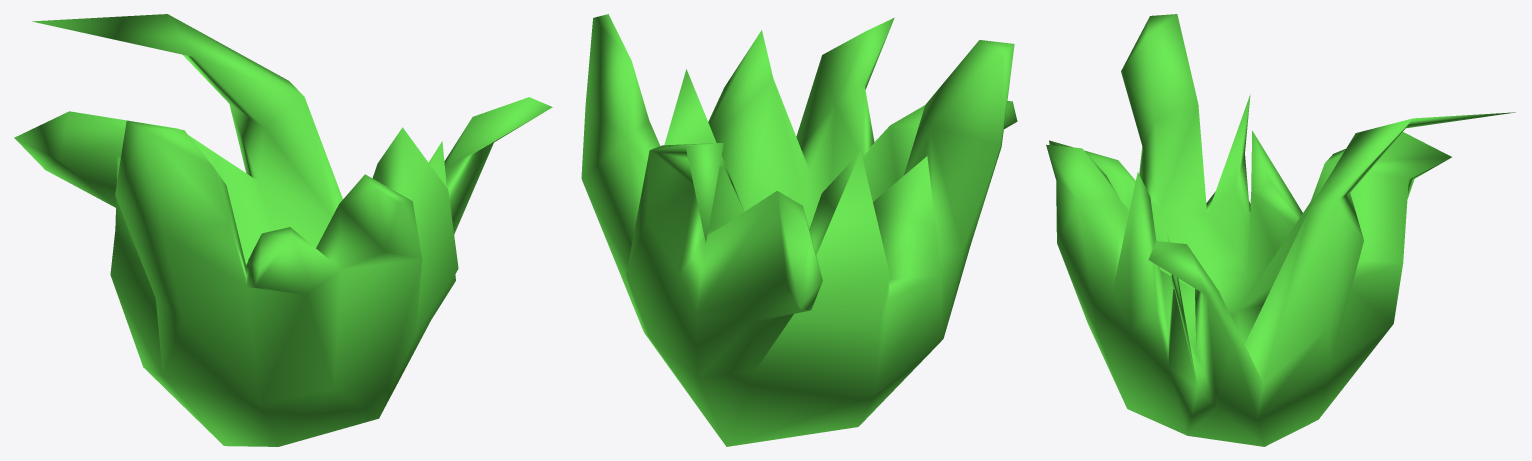
File: grass-c.glb
3 renders of one model, left to right at view 1: azimuth 30°, elevation 25°; view 2: azimuth 150°, elevation 25°; view 3: azimuth 270°, elevation 25°, orthographic. The views are drawn at different scales.
Visible parts, largest first — view 1: grass-c; view 2: grass-c; view 3: grass-c.
Boxes of the visible parts, x1,y1,x2,y2 form: grass-c: [14, 14, 552, 446]; grass-c: [581, 14, 1017, 446]; grass-c: [1046, 14, 1515, 446].
Size of the model in its own units: 1.37 by 1.2 by 1.51.
